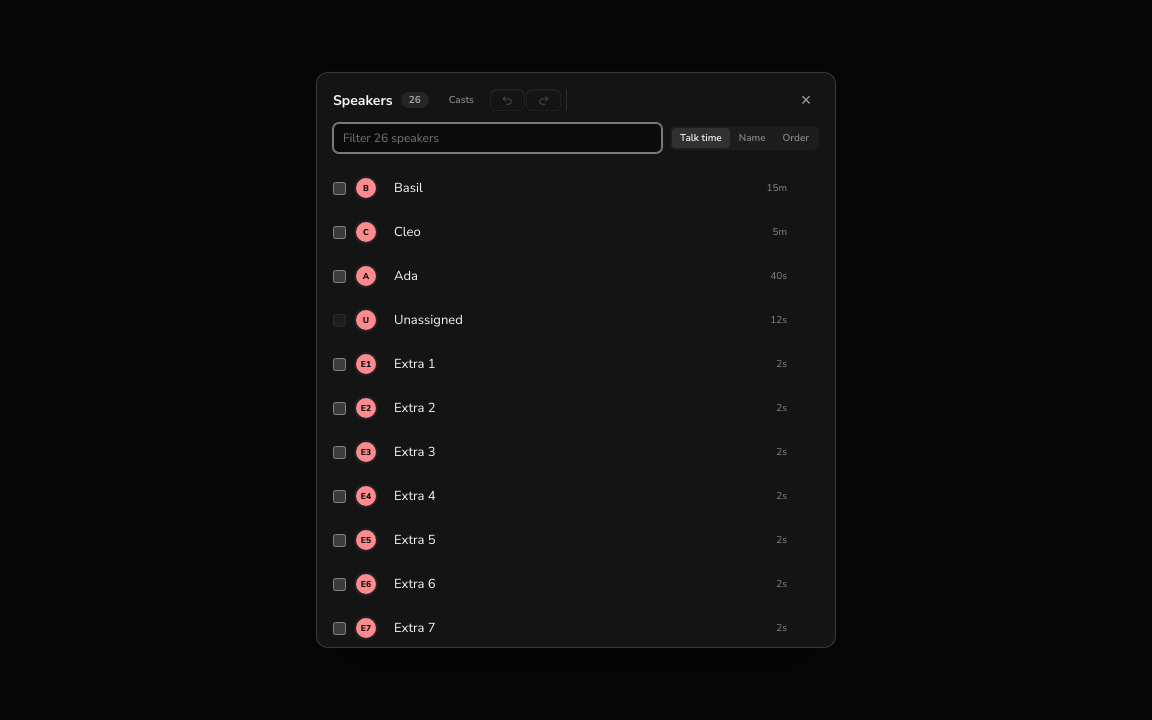
Test: SpeakerRosterModal at cast scale › filters to the typed name and says so when nothing matches
This screenshot has width=1152, height=720.
Type "cle" into the field named "Filter speakers" at (498, 138), box x1=333 y1=123 x2=662 y2=153
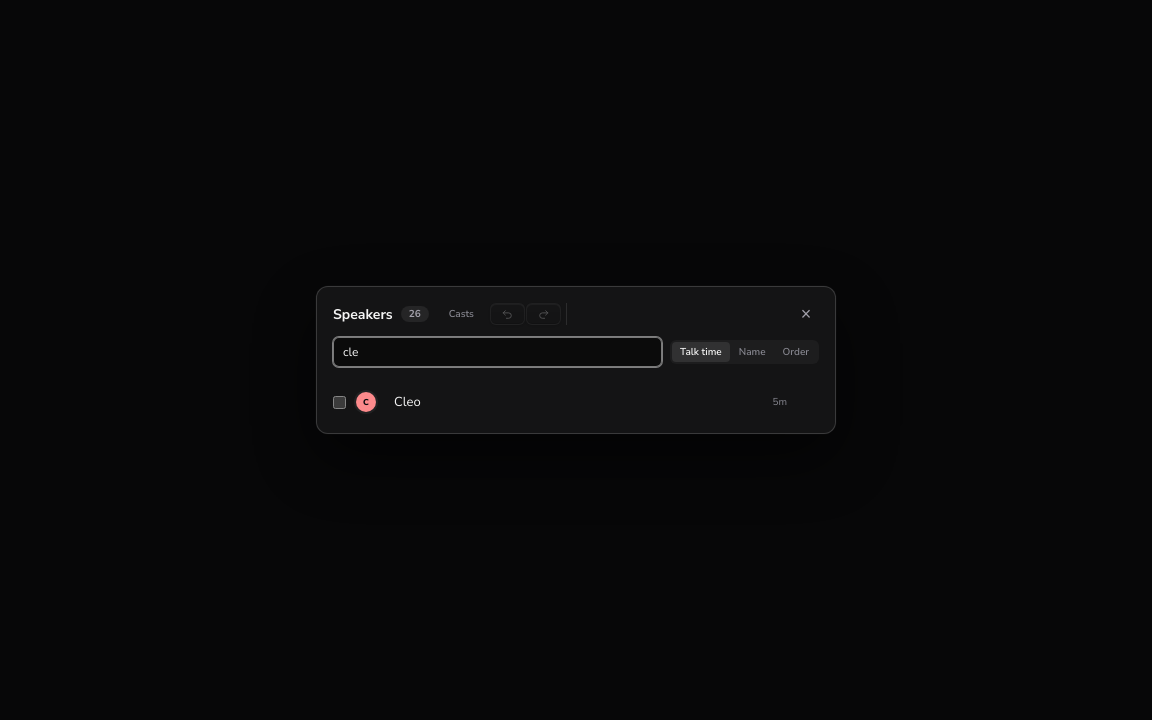
Replace the text in the field named "Filter speakers" with "zzz" at (498, 352), box x1=333 y1=337 x2=662 y2=367
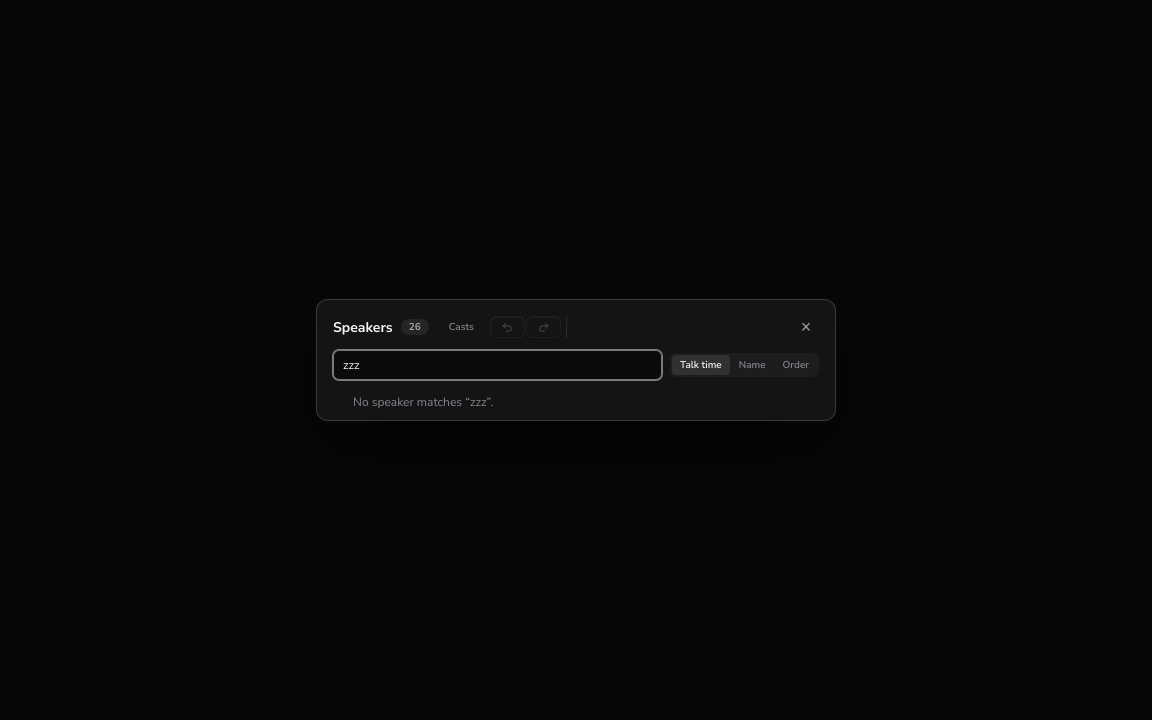
Now the text "No speaker matches “zzz”." is shown, box x1=353 y1=394 x2=493 y2=410
